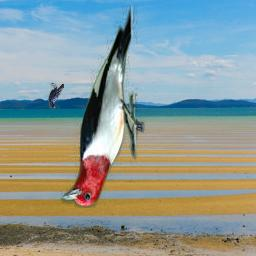Crow: (48, 84, 64, 109)
Woodpecker: (60, 6, 146, 209)
